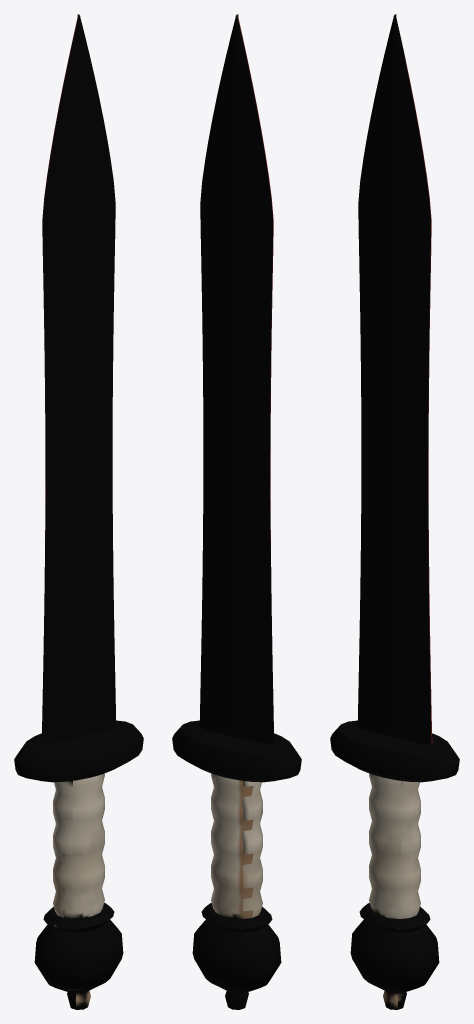
File: Player_Gladius.fbx
3 renders of one model, left to right at view 1: azimuth 30°, elevation 25°; view 2: azimuth 150°, elevation 25°; view 3: azimuth 330°, elevation 25°, orthographic.
Visible parts, largest first — view 1: Player_Gladius; view 2: Player_Gladius; view 3: Player_Gladius.
Boxes of the visible parts, box(x1,y1,x2,y2) form: Player_Gladius: box(14, 14, 143, 1009); Player_Gladius: box(172, 14, 301, 1009); Player_Gladius: box(330, 14, 459, 1009).
Size of the model in its own units: 0.0924 by 0.703 by 0.0461.
1 material, 1 textured.
